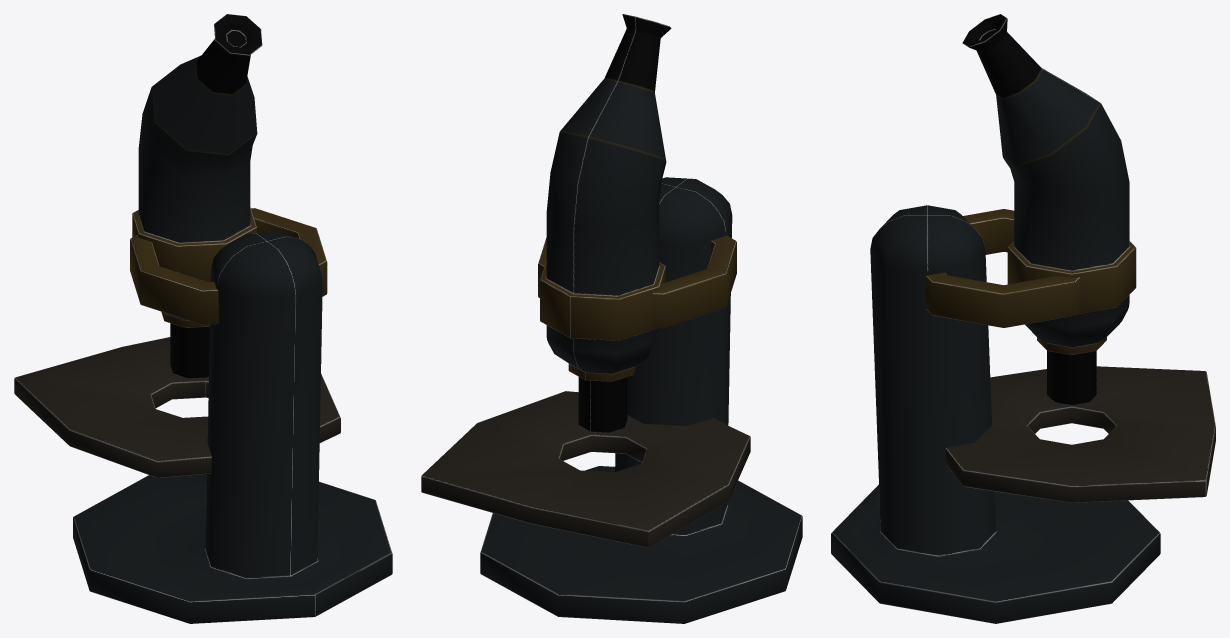
The model's file is _Mikroskop.fbx.
The picture shows the model from 3 angles, left to right: view 1: azimuth 30°, elevation 25°; view 2: azimuth 150°, elevation 25°; view 3: azimuth 270°, elevation 25°; orthographic projection.
Visible parts, largest first — view 1: Mikroskop; view 2: Mikroskop; view 3: Mikroskop.
Boxes of the visible parts, bbox=[...] form: Mikroskop: bbox=[14, 14, 392, 623]; Mikroskop: bbox=[421, 14, 802, 623]; Mikroskop: bbox=[831, 14, 1215, 623].
Size of the model in its own units: 17.17 by 30.85 by 20.04.
Materials: 1 (1 with a texture image).
